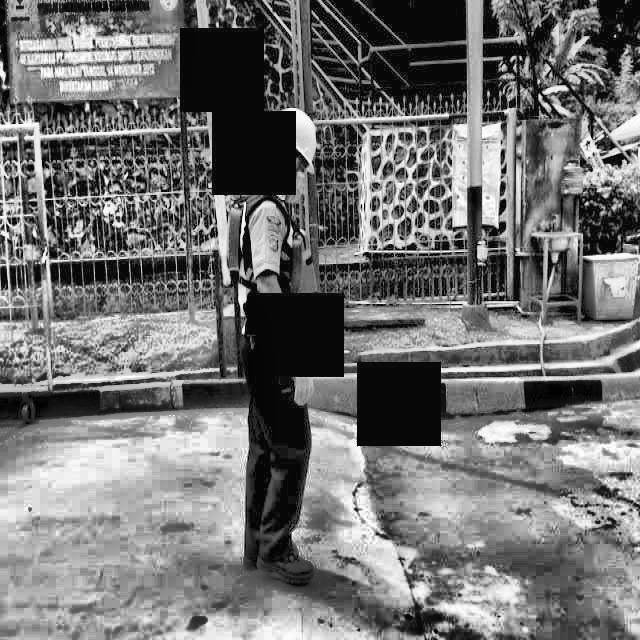safety_helmet: (267, 97, 322, 180)
safety_jacket: (222, 184, 335, 369)
